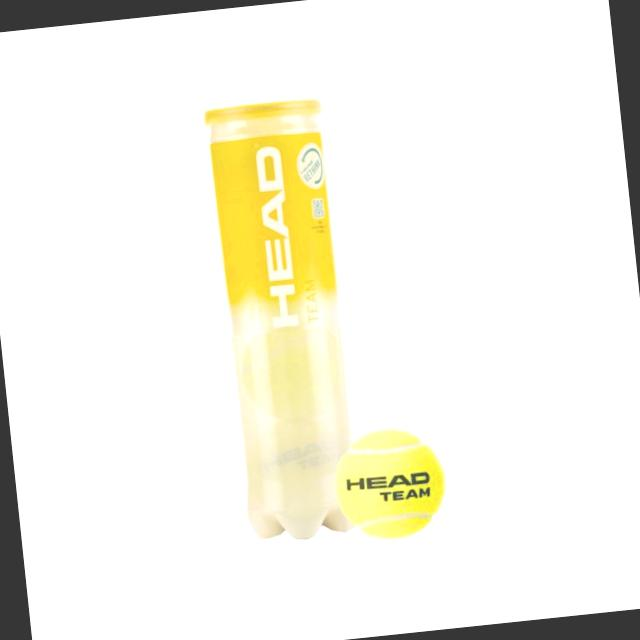ball: (323, 418, 462, 552)
